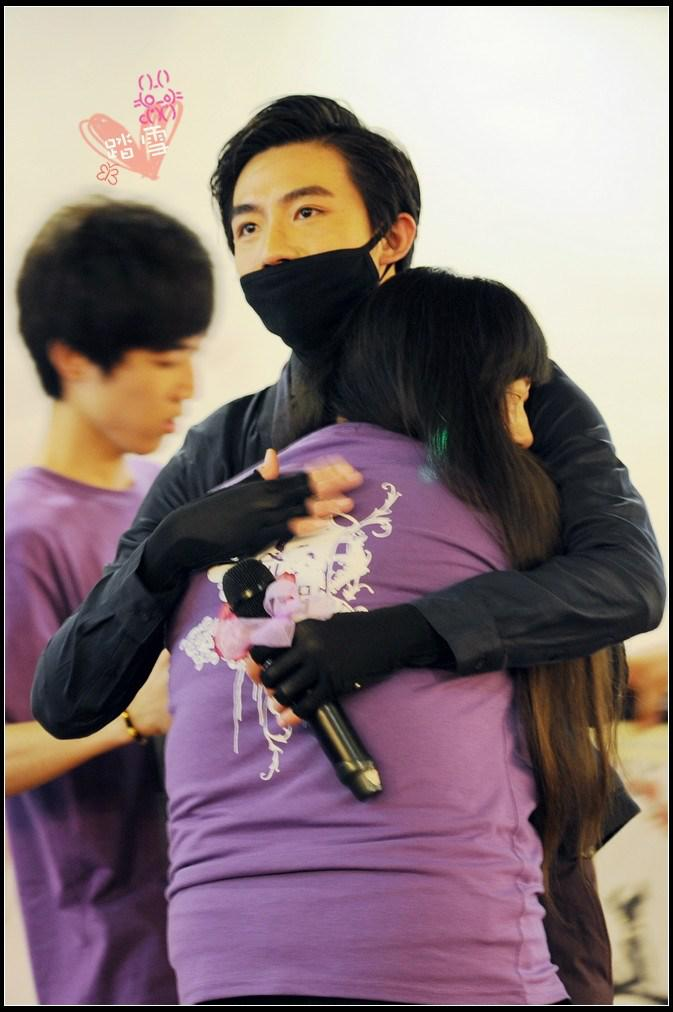NONE: (94, 329, 209, 454)
WRONG: (219, 173, 387, 341)
